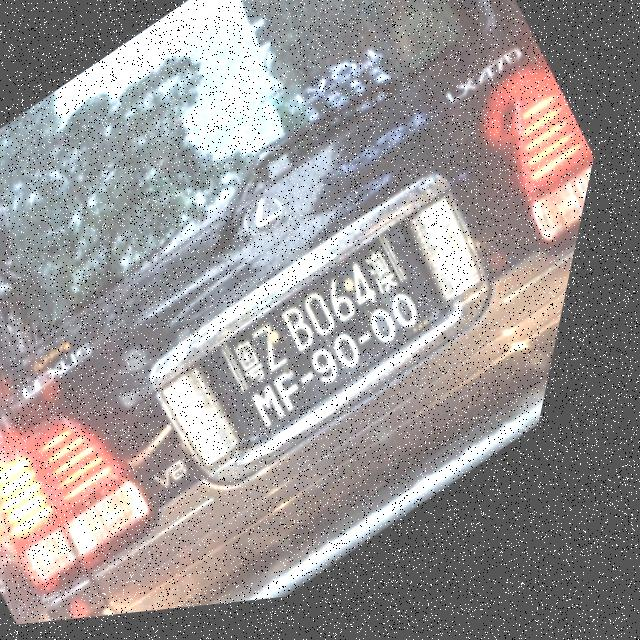license_plate: (196, 220, 478, 458)
